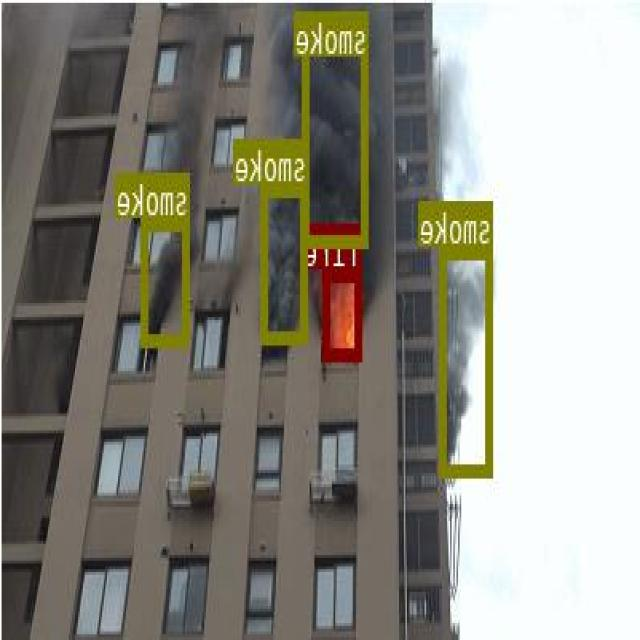fire: (325, 268, 363, 357)
smoke: (304, 9, 370, 244), (442, 245, 493, 473), (262, 182, 308, 342), (142, 218, 192, 344)
